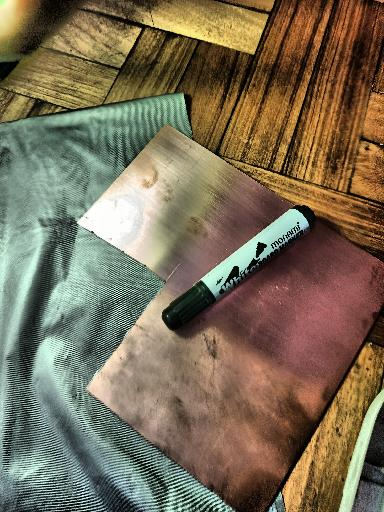marcador negro: (162, 206, 316, 330)
